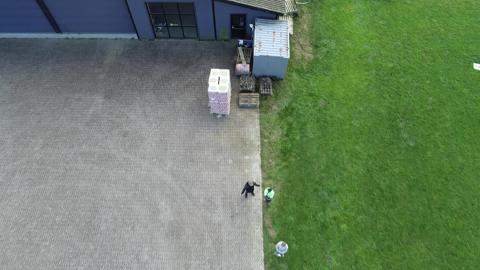RockwoolPallet: (208, 68, 232, 116)
